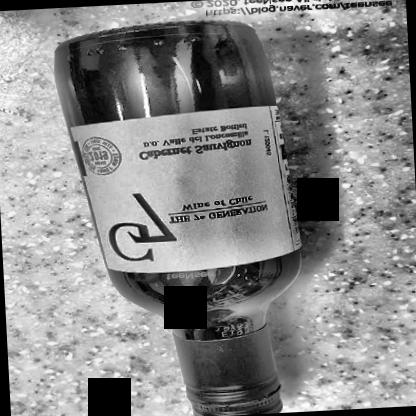G7: (62, 109, 296, 276)
